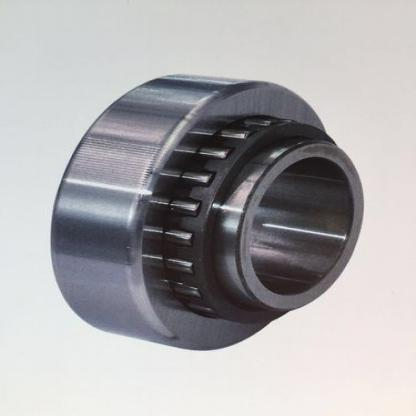FOD: (44, 69, 368, 356)
